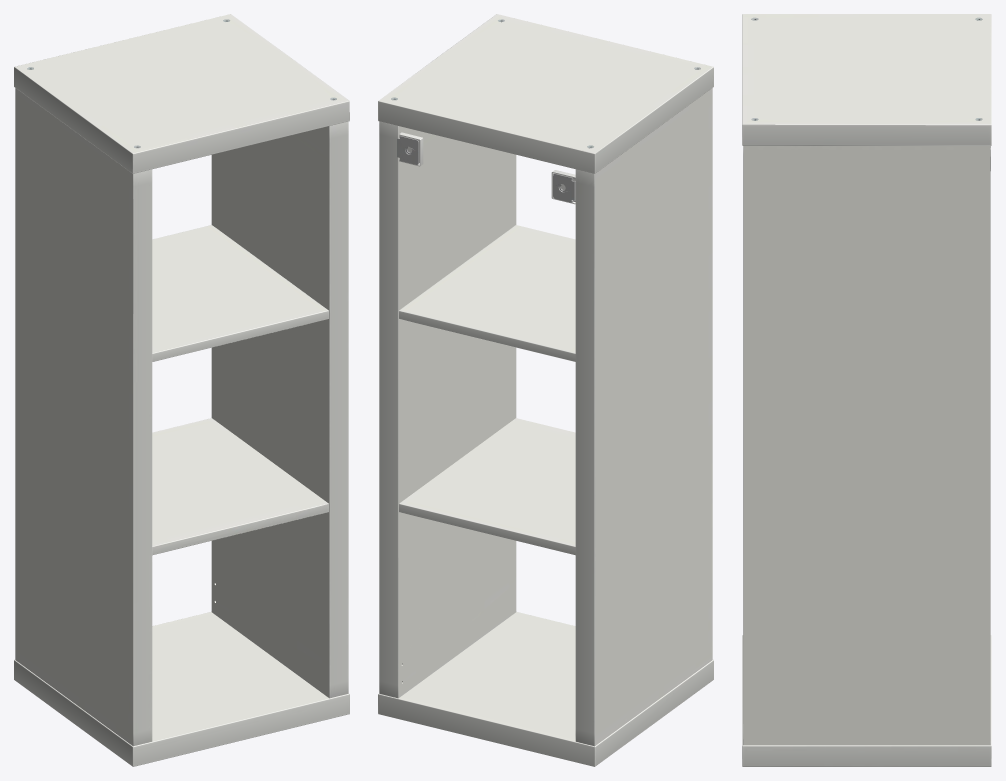
File: kallax_rega_30372188.glb
The picture shows the model from 3 angles, left to right: view 1: azimuth 30°, elevation 25°; view 2: azimuth 150°, elevation 25°; view 3: azimuth 270°, elevation 25°; orthographic projection. The views are drawn at different scales.
Parts seen in each view (by area): view 1: kallax_rega_30372188; view 2: kallax_rega_30372188; view 3: kallax_rega_30372188.
Boxes of the visible parts, x1=… form: kallax_rega_30372188: x1=14, y1=14, x2=349, y2=766; kallax_rega_30372188: x1=378, y1=14, x2=713, y2=766; kallax_rega_30372188: x1=742, y1=14, x2=991, y2=766.
Bounding box in the file's own units: 0.4131 × 1.12 × 0.392.
1 material, 1 textured.
